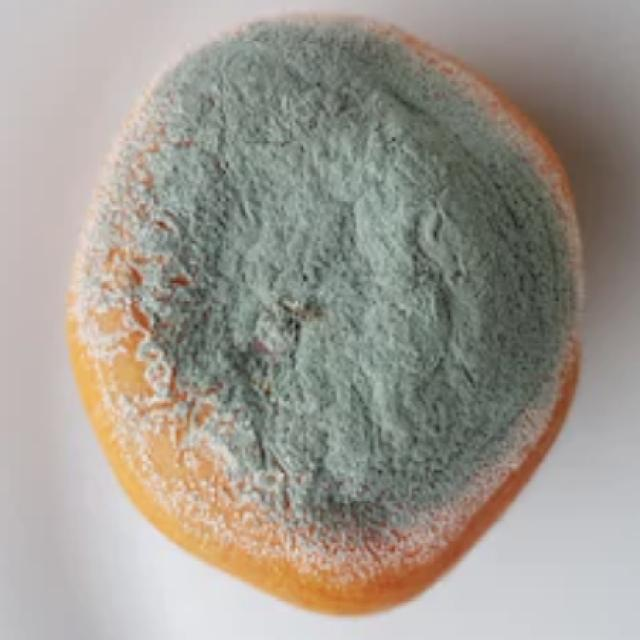sangat_busuk: (69, 8, 579, 603)
